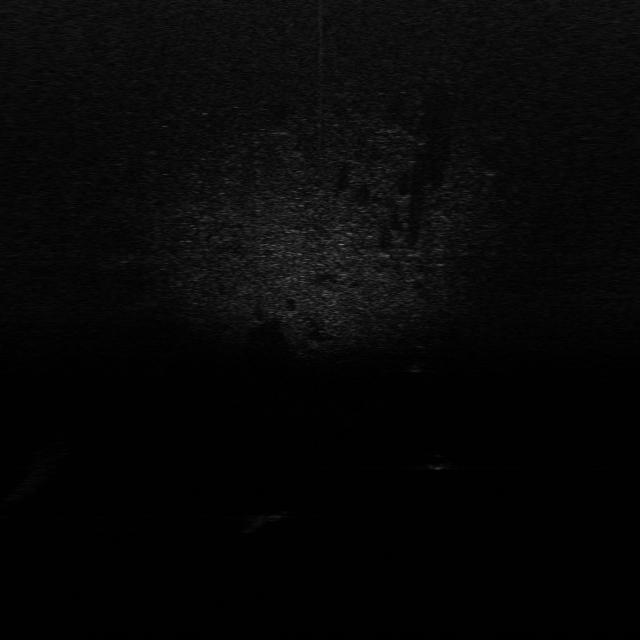ball: (427, 452, 452, 472)
square cage: (251, 503, 288, 528)
tyre: (406, 340, 430, 376)
